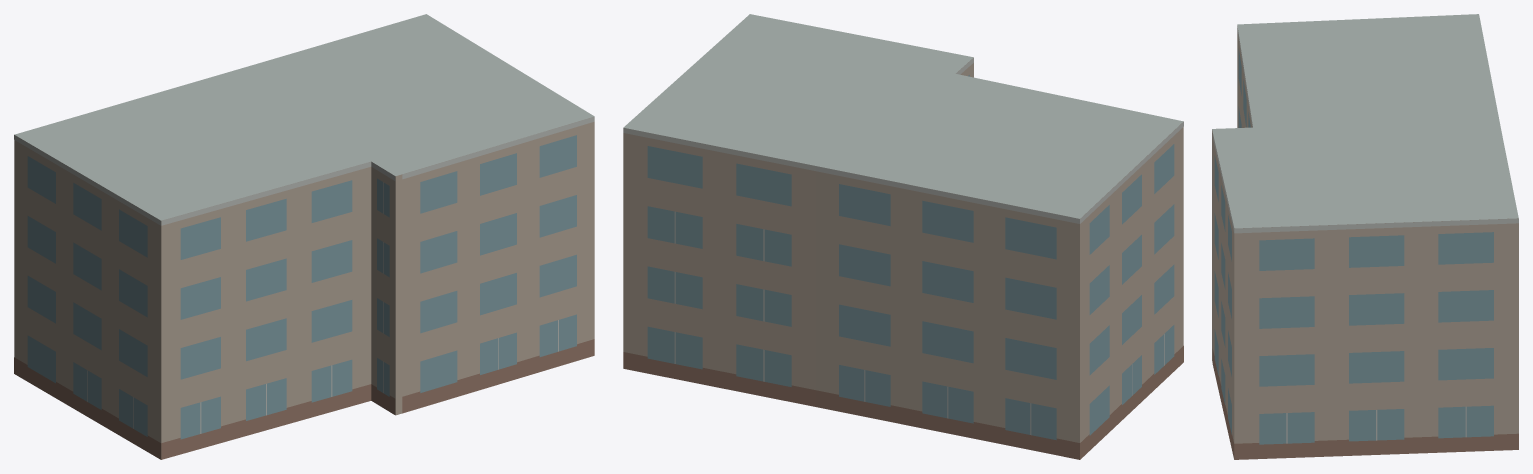
The model's file is survey-upis-32639305.glb.
3 renders of one model, left to right at view 1: azimuth 30°, elevation 25°; view 2: azimuth 150°, elevation 25°; view 3: azimuth 270°, elevation 25°, orthographic. The views are drawn at different scales.
Visible parts, largest first — view 1: survey-upis-32639305.tmp; view 2: survey-upis-32639305.tmp; view 3: survey-upis-32639305.tmp.
Part boxes in pixels (x1,y1,x2,y2): survey-upis-32639305.tmp: (14, 14, 594, 459); survey-upis-32639305.tmp: (623, 14, 1183, 459); survey-upis-32639305.tmp: (1212, 14, 1518, 459).
Size of the model in its own units: 22.46 by 11.3 by 13.58.
